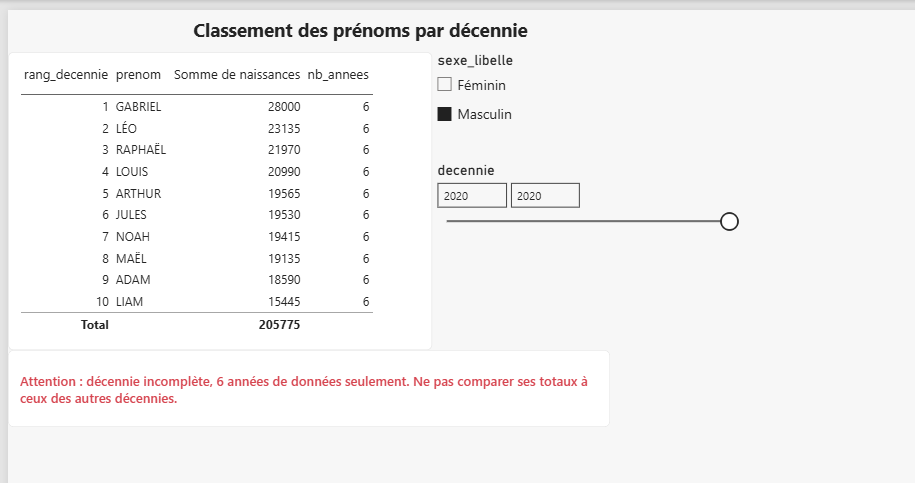

Layout of this report page (visuals, bound fields, positions):
{"tool":"powerbi","page":{"name":"Classement","canvas":[1920,1080],"ordinal":2},"visuals":[{"type":"tableEx","fields":{"Values":["top_par_decennie.rang_decennie","top_par_decennie.prenom","Sum(top_par_decennie.naissances)","top_par_decennie.nb_annees"]},"box":[0,60,605.7,425.7],"z":0},{"type":"slicer","fields":{"Values":["top_par_decennie.decennie"]},"box":[605.7,217.1,441.4,248.6],"z":1000},{"type":"slicer","fields":{"Values":["dim_sexe.sexe_libelle"]},"box":[605.7,60,234.3,157.1],"z":2000},{"type":"cardVisual","fields":{"Data":["top_par_decennie.Avertissement décennie"]},"box":[0,485.7,860,110],"z":3000},{"type":"textbox","box":[20,10,967.1,50],"z":4000}]}

Visuals, with their boxes on the page's 1920x1080 design canvas (x1, y1, x2, y2). These are canvas units, not pixel positions in the 915x483 screenshot, which may show the page scaled, cropped or inside an application window:
tableEx - top_par_decennie.rang_decennie x top_par_decennie.prenom: bbox=(0, 60, 606, 486)
slicer - top_par_decennie.decennie: bbox=(606, 217, 1047, 466)
slicer - dim_sexe.sexe_libelle: bbox=(606, 60, 840, 217)
cardVisual - top_par_decennie.Avertissement décennie: bbox=(0, 486, 860, 596)
textbox: bbox=(20, 10, 987, 60)
